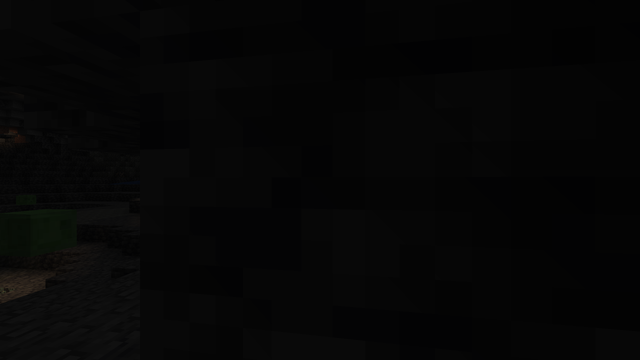slimes: (20, 207, 77, 257), (19, 194, 36, 204)
